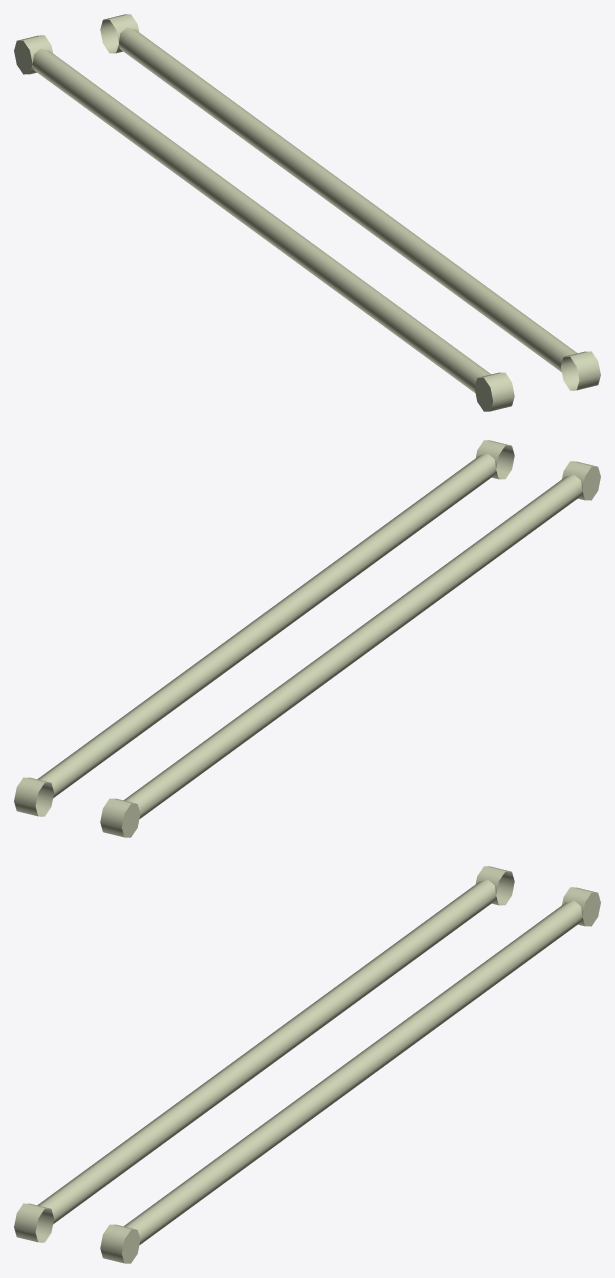
Rendered from octans_basic_high_gain_antenna_srf_1_arm.obj.
The picture shows the model from 3 angles, top to bottom: view 1: azimuth 30°, elevation 25°; view 2: azimuth 150°, elevation 25°; view 3: azimuth 330°, elevation 25°; orthographic projection.
Parts seen in each view (by area): view 1: mesh; view 2: mesh; view 3: mesh.
Boxes of the visible parts, x1,y1,x2,y2 form: mesh: [14, 14, 600, 411]; mesh: [14, 440, 600, 837]; mesh: [14, 866, 600, 1263].
Size of the model in its own units: 0.125 by 0.0375 by 0.9625.
